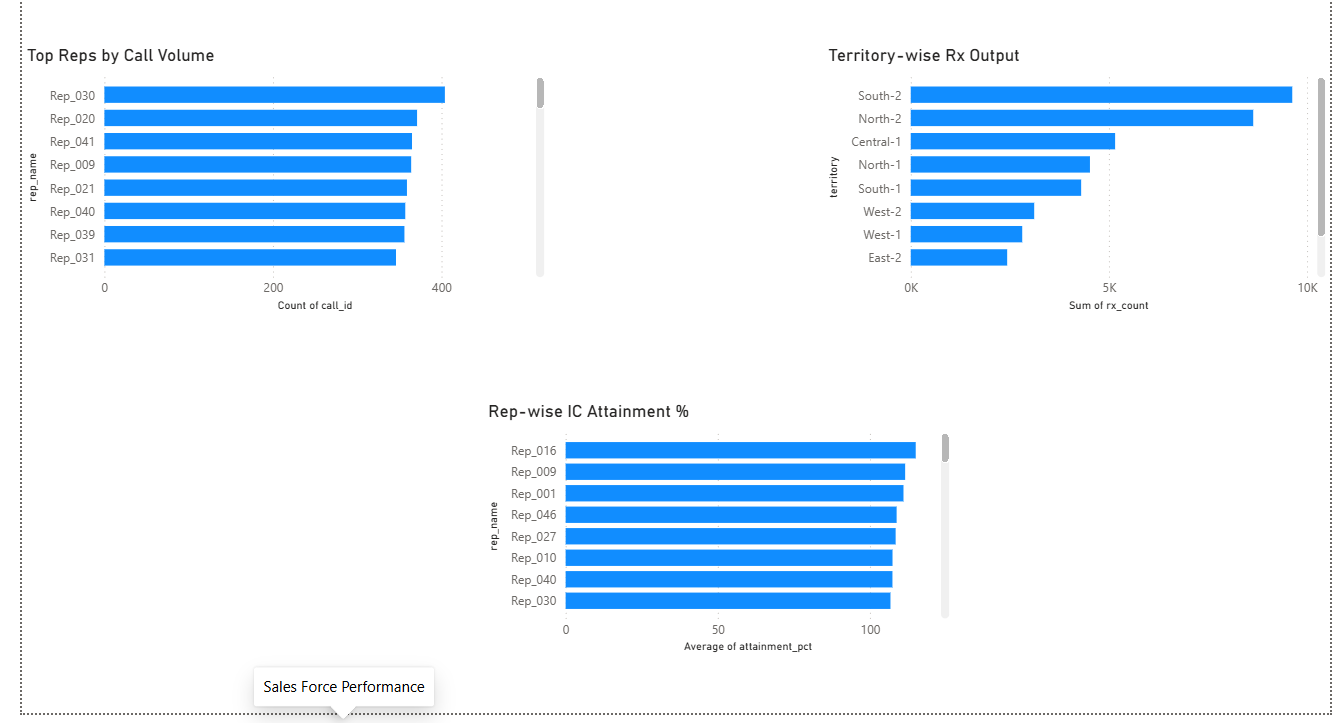

What the dashboard file says about the page in this screenshot:
{"tool":"powerbi","page":{"name":"Sales Force Performance","canvas":[1280,720],"ordinal":1},"visuals":[{"type":"clusteredBarChart","fields":{"Category":["sales_reps.rep_name"],"Y":["CountNonNull(call_activity.call_id)"]},"box":[0,66,516,266.6],"z":0},{"type":"clusteredBarChart","fields":{"Category":["sales_reps.rep_name"],"Y":["Avg(ic_quotas.attainment_pct)"]},"box":[451.2,414.5,461,251.9],"z":1000},{"type":"clusteredBarChart","fields":{"Category":["hcps.territory"],"Y":["Sum(prescriptions.rx_count)"]},"box":[783.8,66,496.5,266.6],"z":2000}]}

Visuals, with their boxes on the page's 1280x720 design canvas (x1, y1, x2, y2). These are canvas units, not pixel positions in the 1336x723 screenshot, which may show the page scaled, cropped or inside an application window:
clusteredBarChart - sales_reps.rep_name x CountNonNull(call_activity.call_id): <box>0,66,516,333</box>
clusteredBarChart - sales_reps.rep_name x Avg(ic_quotas.attainment_pct): <box>451,414,912,666</box>
clusteredBarChart - hcps.territory x Sum(prescriptions.rx_count): <box>784,66,1280,333</box>
